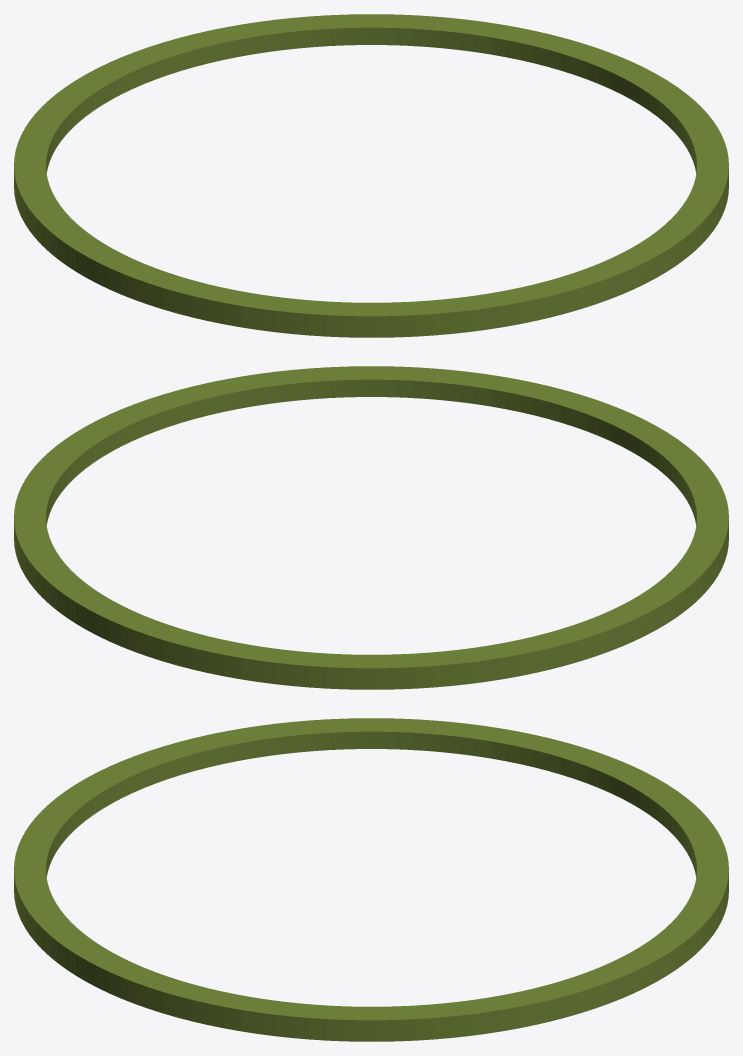
The model's file is Disk.glb.
The picture shows the model from 3 angles, top to bottom: view 1: azimuth 30°, elevation 25°; view 2: azimuth 150°, elevation 25°; view 3: azimuth 270°, elevation 25°; orthographic projection.
Parts seen in each view (by area): view 1: Cylinder; view 2: Cylinder; view 3: Cylinder.
Part boxes in pixels (x1,y1,x2,y2): Cylinder: (14,14,728,337); Cylinder: (14,366,728,689); Cylinder: (14,718,728,1041).
Bounding box in the file's own units: 132 × 4.4 × 132.
